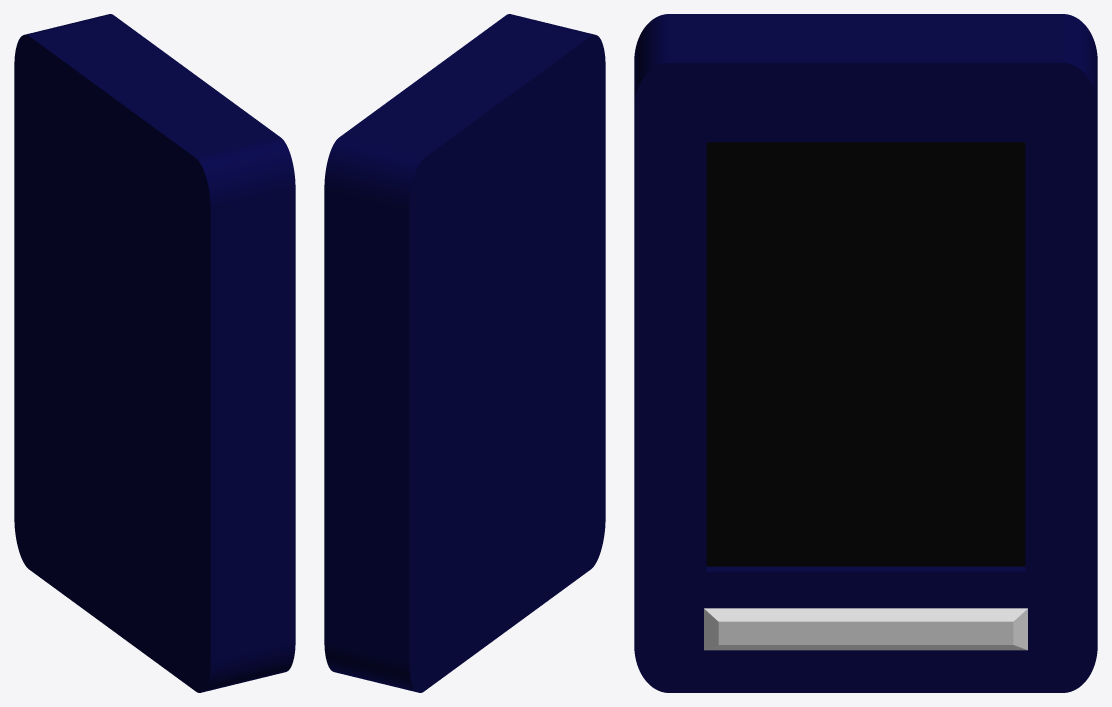
The model's file is Card_Reader.fbx.
3 views of the same model, side by side, from view 1: azimuth 30°, elevation 25°; view 2: azimuth 150°, elevation 25°; view 3: azimuth 270°, elevation 25° (orthographic). The views are drawn at different scales.
Visible parts, largest first — view 1: Cube; view 2: Cube; view 3: Cube.
Part boxes in pixels (bbox=[...]): Cube: bbox=[14, 14, 295, 692]; Cube: bbox=[324, 14, 605, 692]; Cube: bbox=[634, 14, 1097, 692].
Size of the model in its own units: 54 by 300 by 200.
